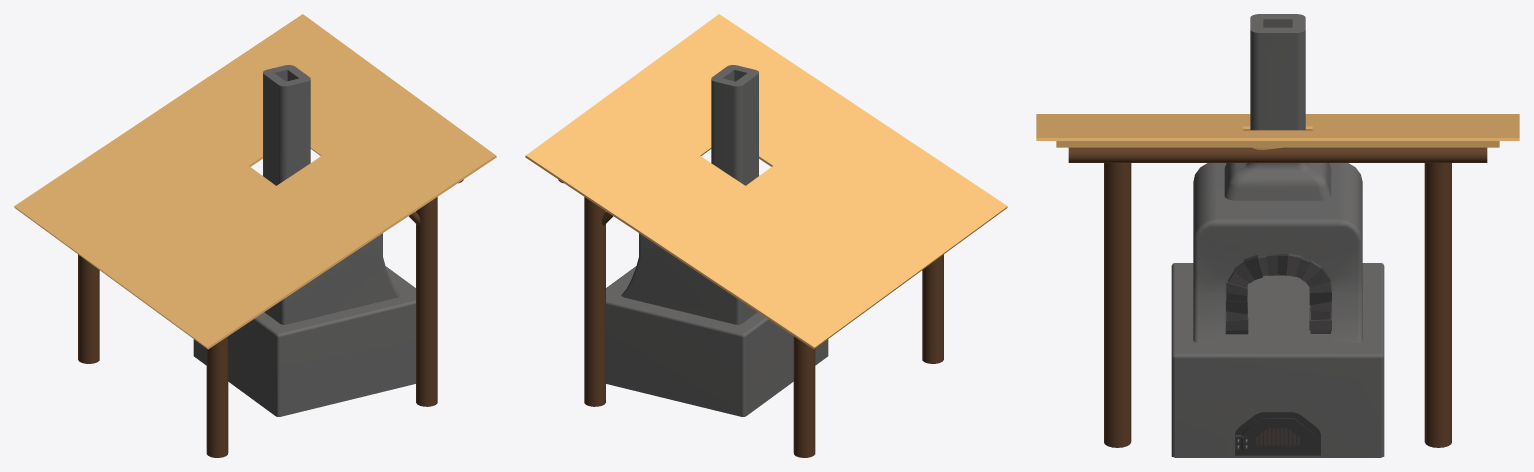
File: Bakery.fbx
3 renders of one model, left to right at view 1: azimuth 30°, elevation 25°; view 2: azimuth 150°, elevation 25°; view 3: azimuth 270°, elevation 25°, orthographic. The views are drawn at different scales.
Parts seen in each view (by area): view 1: Bakery_LOD0; view 2: Bakery_LOD0; view 3: Bakery_LOD0.
Boxes of the visible parts, box(x1,y1,x2,y2) form: Bakery_LOD0: box(14, 14, 496, 457); Bakery_LOD0: box(525, 14, 1007, 457); Bakery_LOD0: box(1036, 14, 1519, 457).
Size of what is drawn, in the model's own units: 436 by 377 by 371.
